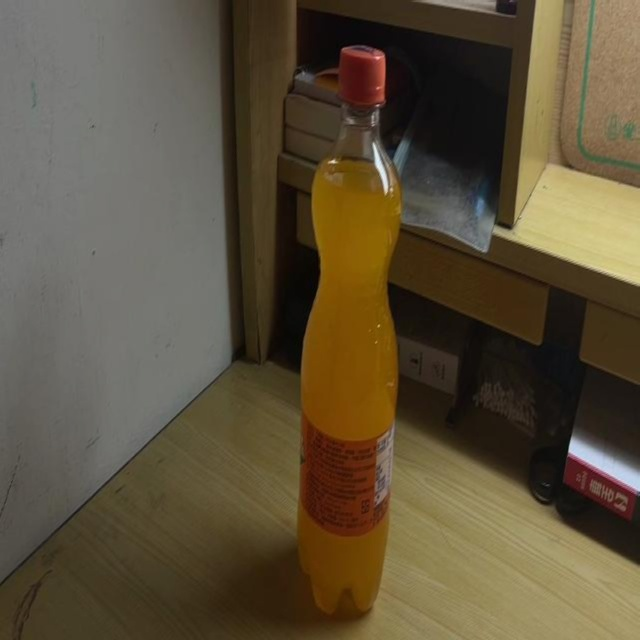Fanta: (298, 48, 402, 616)
